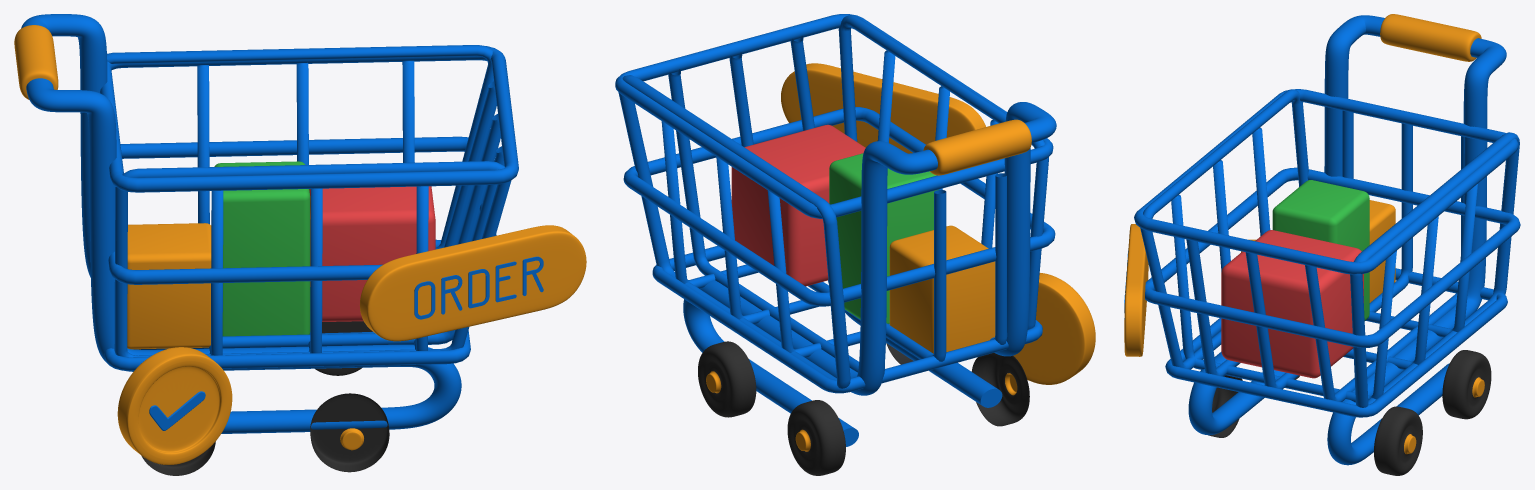
Rendered from order-3d-animated-icon-271221872489.glb.
3 renders of one model, left to right at view 1: azimuth 30°, elevation 25°; view 2: azimuth 150°, elevation 25°; view 3: azimuth 270°, elevation 25°, orthographic. The views are drawn at different scales.
Parts seen in each view (by area): view 1: Cart, Cube.002, Plane.001, Checklist, Plane.002, Plane, Cylinder.005, Cube.003, Cube.001; view 2: Cart, Cylinder.005, Plane.002, Plane, Cube.002, Plane.001, Checklist, Cube.003; view 3: Cart, Plane.002, Cylinder.005, Plane.001, Cube.003, Cube.002, Plane.
Part boxes in pixels (x1,y1,x2,y2): Cart: (21, 14, 518, 433); Cube.002: (359, 225, 586, 341); Plane.001: (214, 161, 310, 336); Checklist: (117, 347, 232, 464); Plane.002: (309, 186, 435, 321); Plane: (127, 223, 211, 349); Cylinder.005: (141, 321, 389, 475); Cube.003: (14, 25, 58, 99); Cube.001: (149, 391, 205, 430); Cart: (615, 14, 1056, 446); Cylinder.005: (698, 341, 1029, 475); Plane.002: (731, 124, 865, 286); Plane: (889, 225, 995, 353); Cube.002: (781, 63, 985, 153); Plane.001: (829, 153, 938, 323); Checklist: (1013, 273, 1095, 384); Cube.003: (923, 119, 1031, 175); Cart: (1134, 15, 1520, 465); Plane.002: (1221, 230, 1363, 378); Cylinder.005: (1208, 350, 1491, 475); Plane.001: (1272, 180, 1369, 320); Cube.003: (1380, 14, 1481, 61); Cube.002: (1124, 224, 1148, 356); Plane: (1369, 200, 1395, 302).
Bounding box in the file's own units: 3.13 × 2.44 × 2.67.
